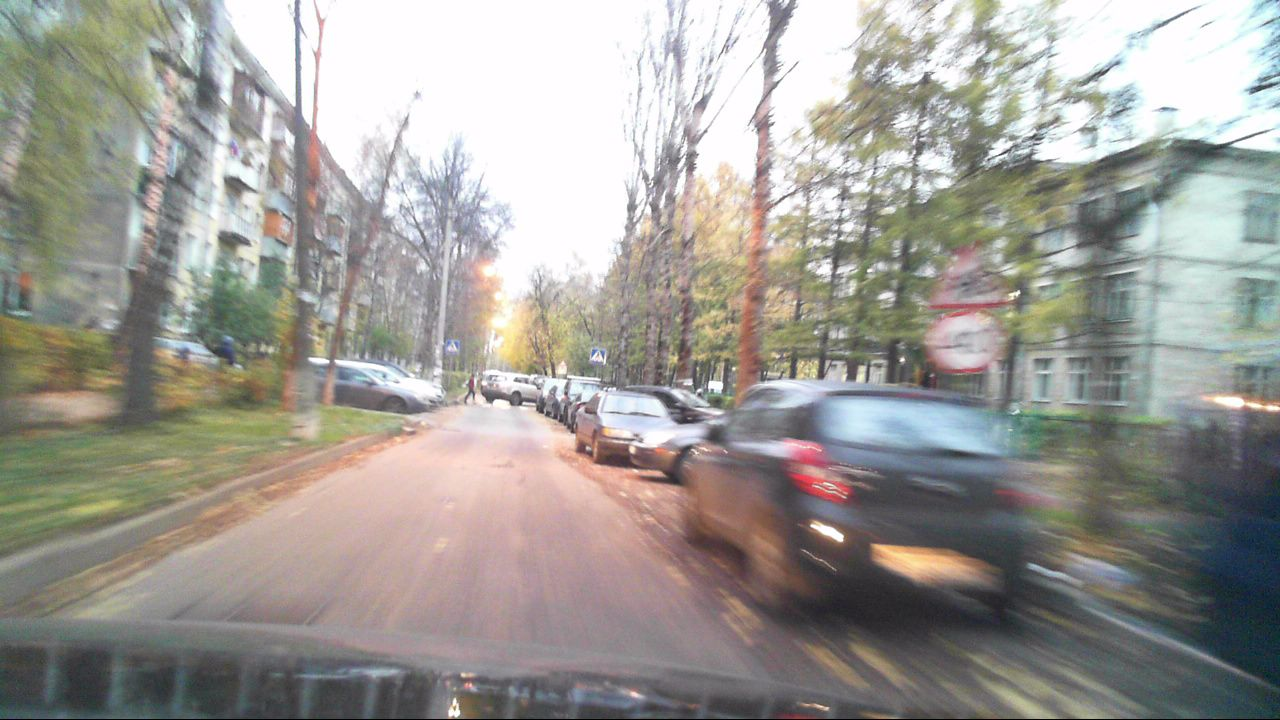speed_warning_40: (927, 309, 1002, 373)
